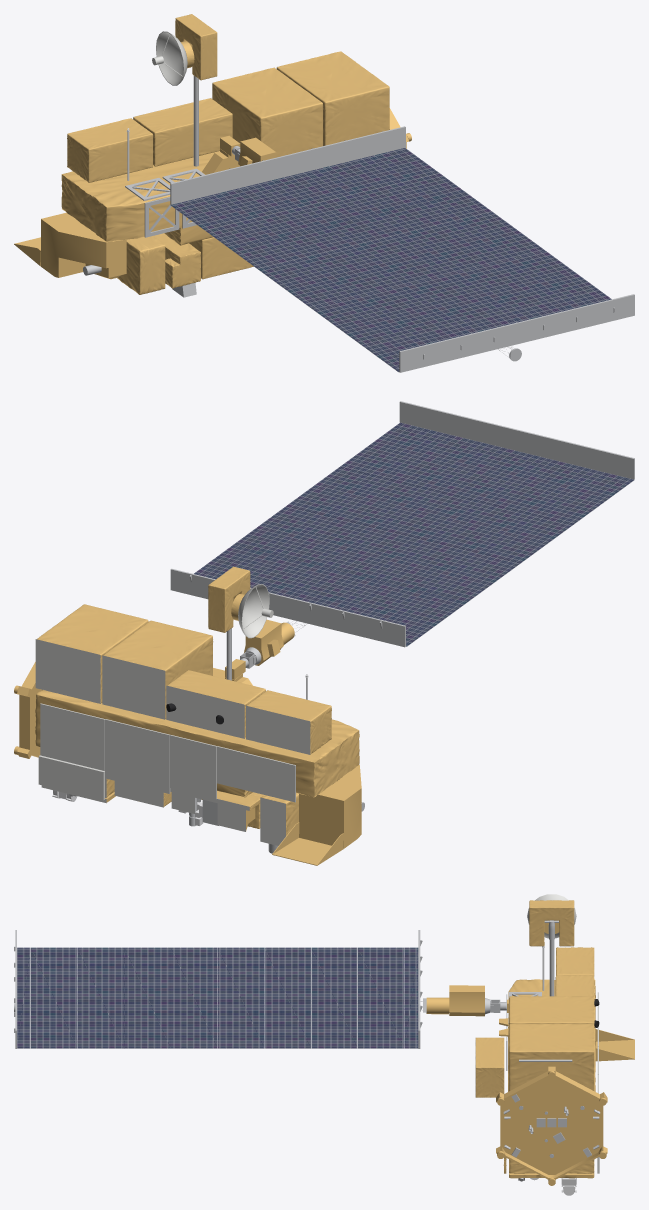
The model's file is terra.glb.
3 views of the same model, one above another, from view 1: azimuth 30°, elevation 25°; view 2: azimuth 150°, elevation 25°; view 3: azimuth 270°, elevation 25° (orthographic). The views are drawn at different scales.
Parts seen in each view (by area): view 1: Terra_vFINAL [Layer17], Terra_vFINAL [Layer10], Terra_vFINAL [Layer16], Terra_vFINAL [Layer15]; view 2: Terra_vFINAL [Layer17], Terra_vFINAL [Layer15], Terra_vFINAL [Layer10], Terra_vFINAL [Layer16]; view 3: Terra_vFINAL [Layer17], Terra_vFINAL [Layer10], Terra_vFINAL [Layer16], Terra_vFINAL [Layer15].
Part boxes in pixels (box(x1,y1,x2,y2)): Terra_vFINAL [Layer17]: box(171, 148, 611, 371); Terra_vFINAL [Layer10]: box(14, 14, 411, 294); Terra_vFINAL [Layer16]: box(83, 75, 634, 372); Terra_vFINAL [Layer15]: box(131, 31, 277, 119); Terra_vFINAL [Layer17]: box(194, 422, 634, 646); Terra_vFINAL [Layer15]: box(35, 584, 310, 845); Terra_vFINAL [Layer10]: box(14, 566, 361, 865); Terra_vFINAL [Layer16]: box(69, 401, 634, 853); Terra_vFINAL [Layer17]: box(17, 947, 418, 1048); Terra_vFINAL [Layer10]: box(426, 900, 634, 1185); Terra_vFINAL [Layer16]: box(14, 920, 600, 1181); Terra_vFINAL [Layer15]: box(527, 894, 599, 1173).
Size of the model in its own units: 7.76 by 5.85 by 14.83.
6 materials, 1 textured.
